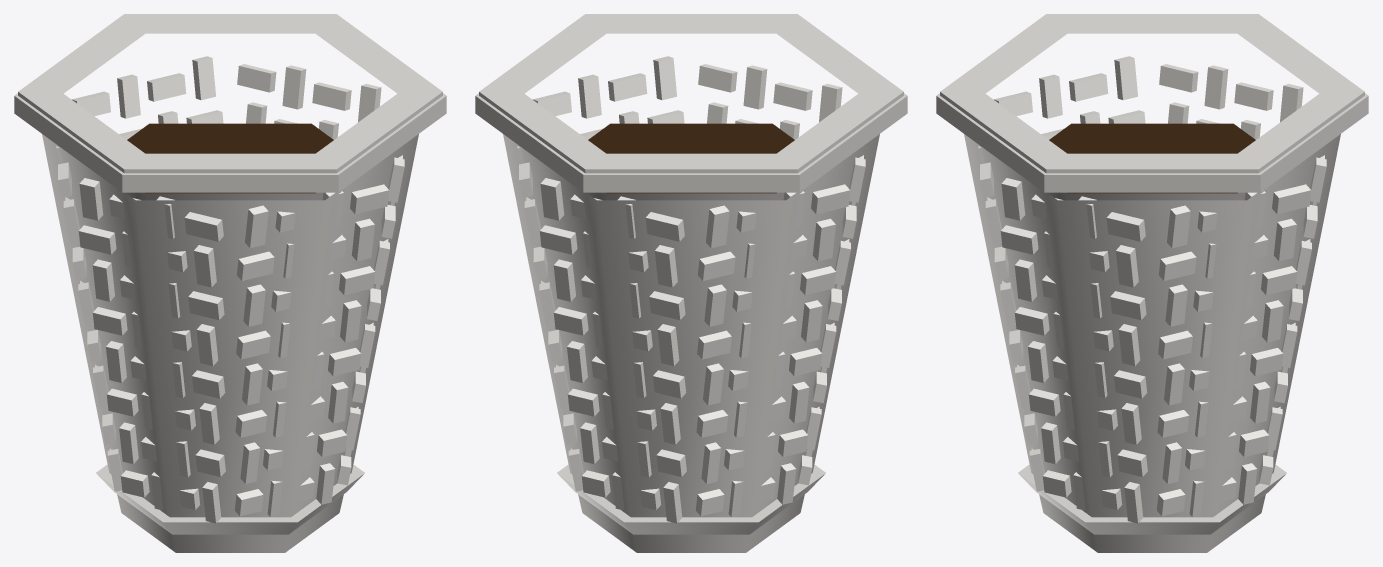
3 renders of one model, left to right at view 1: azimuth 30°, elevation 25°; view 2: azimuth 150°, elevation 25°; view 3: azimuth 270°, elevation 25°, orthographic.
Parts seen in each view (by area): view 1: shell, collar-bead, collar, soil, plinth, foot-pad, lining, weave-1-7-3, weave-0-7-3, weave-3-7-2, weave-3-7-0, weave-4-7-2 (+37 smaller); view 2: shell, collar-bead, collar, soil, plinth, foot-pad, lining, weave-3-7-3, weave-2-7-3, weave-5-7-2, weave-0-7-2, weave-5-7-0 (+37 smaller); view 3: shell, collar-bead, collar, soil, plinth, foot-pad, lining, weave-5-7-3, weave-1-7-2, weave-4-7-3, weave-1-7-0, weave-2-7-2 (+37 smaller).
Part boxes in pixels (left/top/right/bottom): shell: left=42, top=134, right=418, bottom=517; collar-bead: left=18, top=14, right=442, bottom=173; collar: left=14, top=29, right=446, bottom=192; soil: left=127, top=123, right=333, bottom=193; plinth: left=96, top=464, right=364, bottom=534; foot-pad: left=117, top=494, right=343, bottom=552; lining: left=126, top=192, right=323, bottom=200; weave-1-7-3: left=184, top=212, right=223, bottom=241; weave-0-7-3: left=350, top=184, right=389, bottom=214; weave-3-7-2: left=117, top=74, right=140, bottom=118; weave-3-7-0: left=192, top=56, right=215, bottom=100; weave-4-7-2: left=282, top=65, right=306, bottom=109; shell: left=503, top=134, right=879, bottom=517; collar-bead: left=479, top=14, right=903, bottom=173; collar: left=475, top=29, right=907, bottom=192; soil: left=588, top=123, right=794, bottom=193; plinth: left=557, top=464, right=825, bottom=534; foot-pad: left=578, top=494, right=804, bottom=552; lining: left=587, top=192, right=784, bottom=200; weave-3-7-3: left=645, top=212, right=684, bottom=241; weave-2-7-3: left=811, top=184, right=850, bottom=214; weave-5-7-2: left=578, top=74, right=601, bottom=118; weave-0-7-2: left=743, top=65, right=767, bottom=109; weave-5-7-0: left=653, top=56, right=676, bottom=100; shell: left=964, top=134, right=1340, bottom=517; collar-bead: left=940, top=14, right=1364, bottom=173; collar: left=936, top=29, right=1368, bottom=192; soil: left=1049, top=123, right=1255, bottom=193; plinth: left=1018, top=464, right=1286, bottom=534; foot-pad: left=1039, top=494, right=1265, bottom=552; lining: left=1048, top=192, right=1245, bottom=200; weave-5-7-3: left=1106, top=212, right=1145, bottom=241; weave-1-7-2: left=1039, top=74, right=1062, bottom=118; weave-4-7-3: left=1272, top=184, right=1311, bottom=214; weave-1-7-0: left=1114, top=56, right=1137, bottom=100; weave-2-7-2: left=1204, top=65, right=1228, bottom=109.
Size of the model in its own units: 0.3537 by 0.43 by 0.4.
